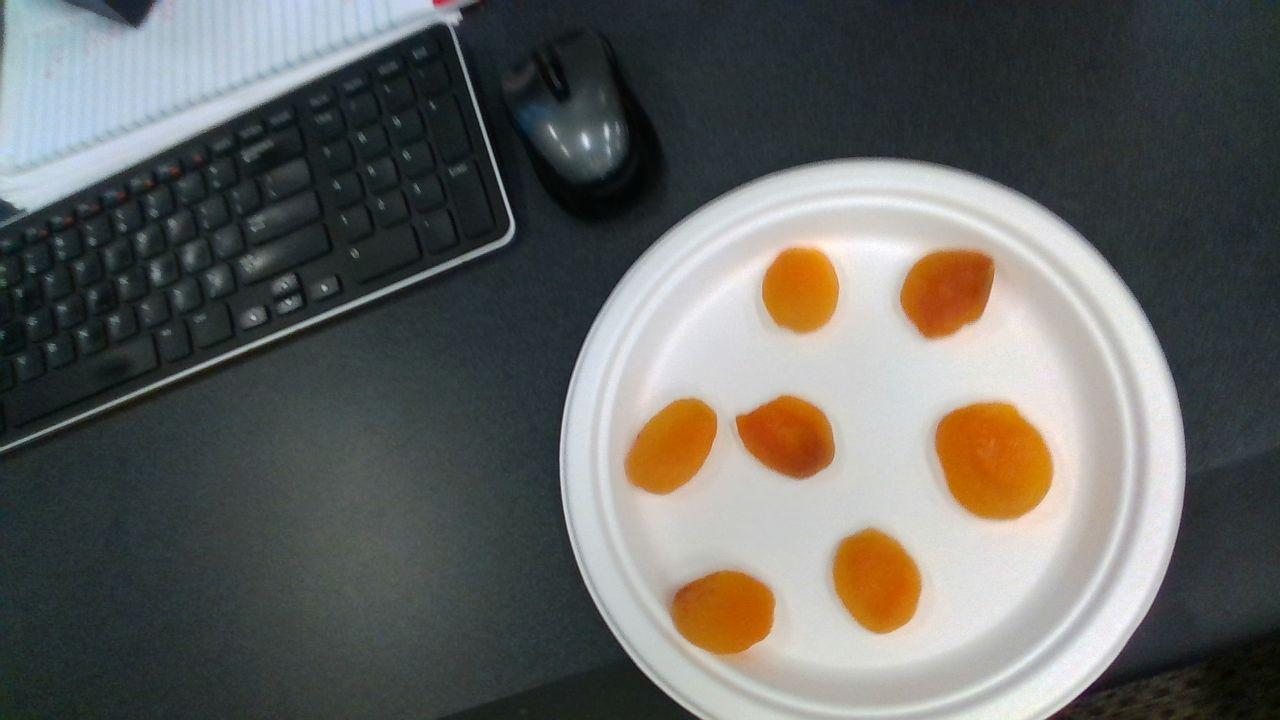apricot: (936, 404, 1052, 519), (624, 398, 717, 495), (836, 530, 921, 634), (674, 571, 775, 655), (736, 397, 834, 479), (901, 254, 993, 337), (764, 249, 839, 333)
